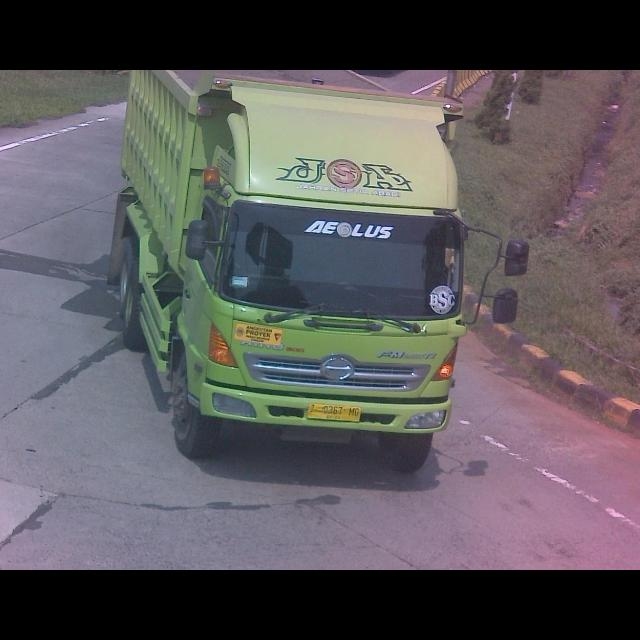plate: (305, 402, 363, 426)
